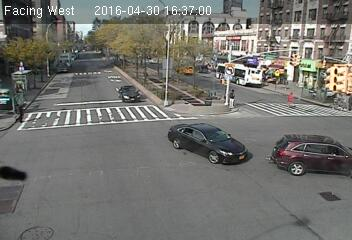neg: (40, 117, 91, 184), (251, 136, 295, 194), (113, 68, 154, 124), (164, 131, 205, 186), (47, 44, 76, 83), (5, 159, 31, 194), (178, 33, 204, 68), (106, 151, 131, 185), (12, 49, 36, 81), (252, 34, 271, 61), (99, 33, 116, 56), (302, 57, 318, 78)
pos: (225, 86, 243, 110), (11, 100, 29, 124), (280, 86, 297, 110)
